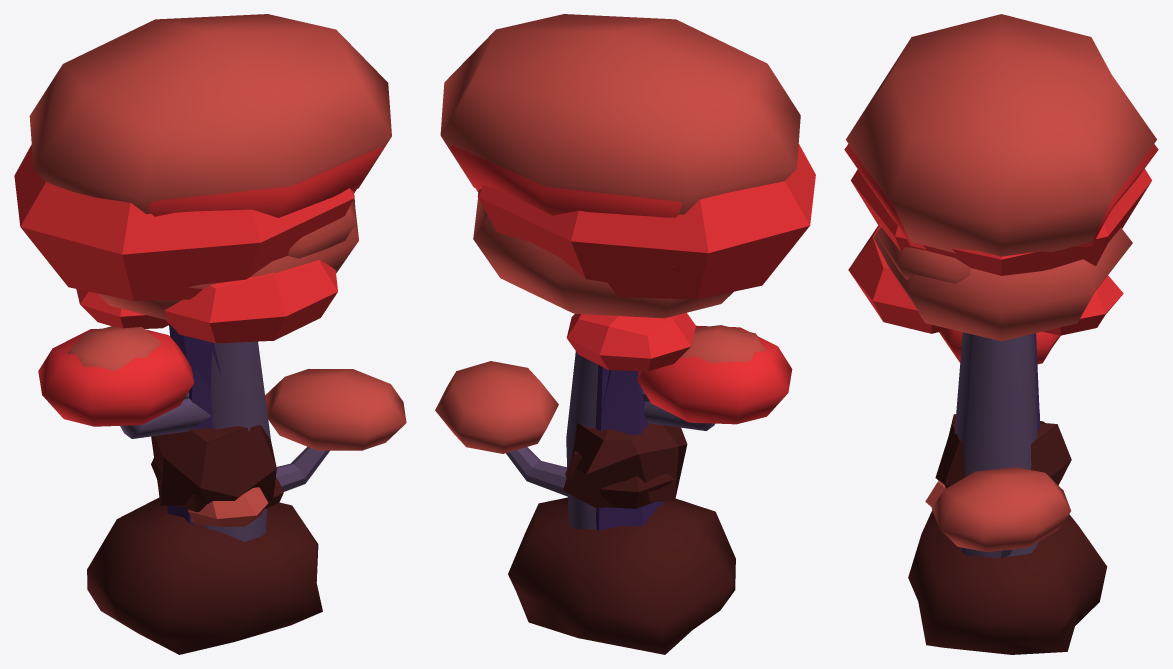
File: Mais assets .fbx
3 renders of one model, left to right at view 1: azimuth 30°, elevation 25°; view 2: azimuth 150°, elevation 25°; view 3: azimuth 270°, elevation 25°, orthographic.
Visible parts, largest first — view 1: Árvore floresta 2, Arvore floresta 4, Arbusto, Árvore floresta 1, Arvore floresta 3, Árvore 3, Árvore 2, Árvore; view 2: Árvore floresta 2, Arvore floresta 4, Arbusto, Arvore floresta 3, Árvore floresta 1, Árvore 3, Árvore; view 3: Árvore floresta 2, Arvore floresta 3, Arbusto, Árvore floresta 1, Arvore floresta 4, Árvore 3.
Boxes of the visible parts, left/top/right/bottom form: Árvore floresta 2: left=29, top=14, right=391, bottom=525; Arvore floresta 4: left=14, top=145, right=354, bottom=389; Arbusto: left=87, top=498, right=322, bottom=654; Árvore floresta 1: left=38, top=147, right=382, bottom=541; Arvore floresta 3: left=67, top=209, right=406, bottom=491; Árvore 3: left=151, top=424, right=276, bottom=505; Árvore 2: left=187, top=487, right=268, bottom=526; Árvore: left=151, top=458, right=283, bottom=512; Árvore floresta 2: left=440, top=14, right=800, bottom=530; Arvore floresta 4: left=477, top=144, right=815, bottom=530; Arbusto: left=508, top=497, right=735, bottom=654; Arvore floresta 3: left=435, top=198, right=766, bottom=496; Árvore floresta 1: left=450, top=145, right=792, bottom=529; Árvore 3: left=563, top=422, right=687, bottom=508; Árvore: left=565, top=451, right=673, bottom=508; Árvore floresta 2: left=846, top=14, right=1156, bottom=430; Arvore floresta 3: left=874, top=228, right=1132, bottom=558; Arbusto: left=908, top=510, right=1107, bottom=654; Árvore floresta 1: left=844, top=144, right=1158, bottom=557; Arvore floresta 4: left=848, top=168, right=1151, bottom=429; Árvore 3: left=935, top=414, right=1071, bottom=488.
Size of what is drawn, in the model's own units: 902 by 1343 by 664.
